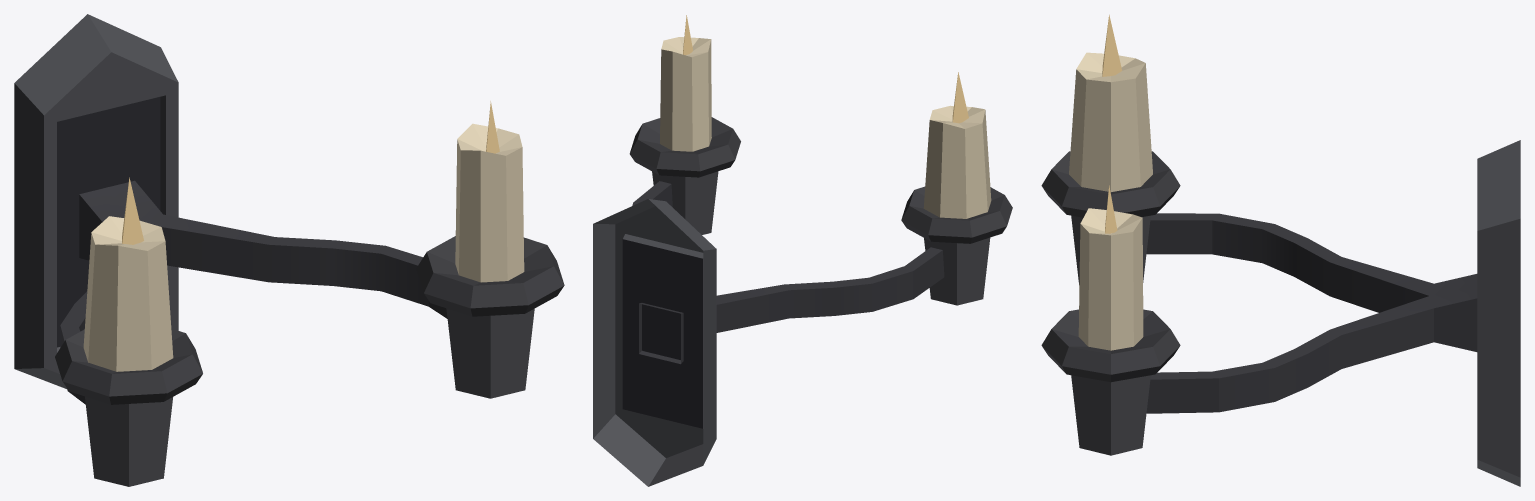
File: Chandelier_1B.fbx
3 renders of one model, left to right at view 1: azimuth 30°, elevation 25°; view 2: azimuth 150°, elevation 25°; view 3: azimuth 270°, elevation 25°, orthographic. The views are drawn at different scales.
Parts seen in each view (by area): view 1: pCylinder279; view 2: pCylinder279; view 3: pCylinder279.
Boxes of the visible parts, x1,y1,x2,y2 form: pCylinder279: (14, 14, 564, 486); pCylinder279: (593, 15, 1012, 486); pCylinder279: (1041, 14, 1520, 486).
Size of the model in its own units: 65.43 by 54.61 by 60.63.
